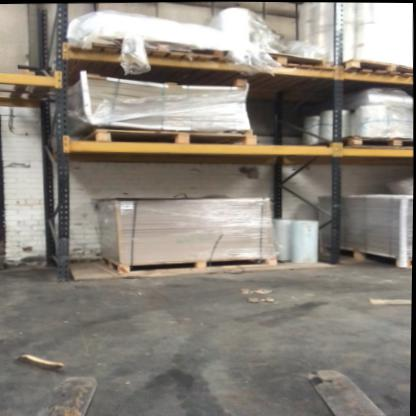vertical_damage: (56, 226, 76, 252)
